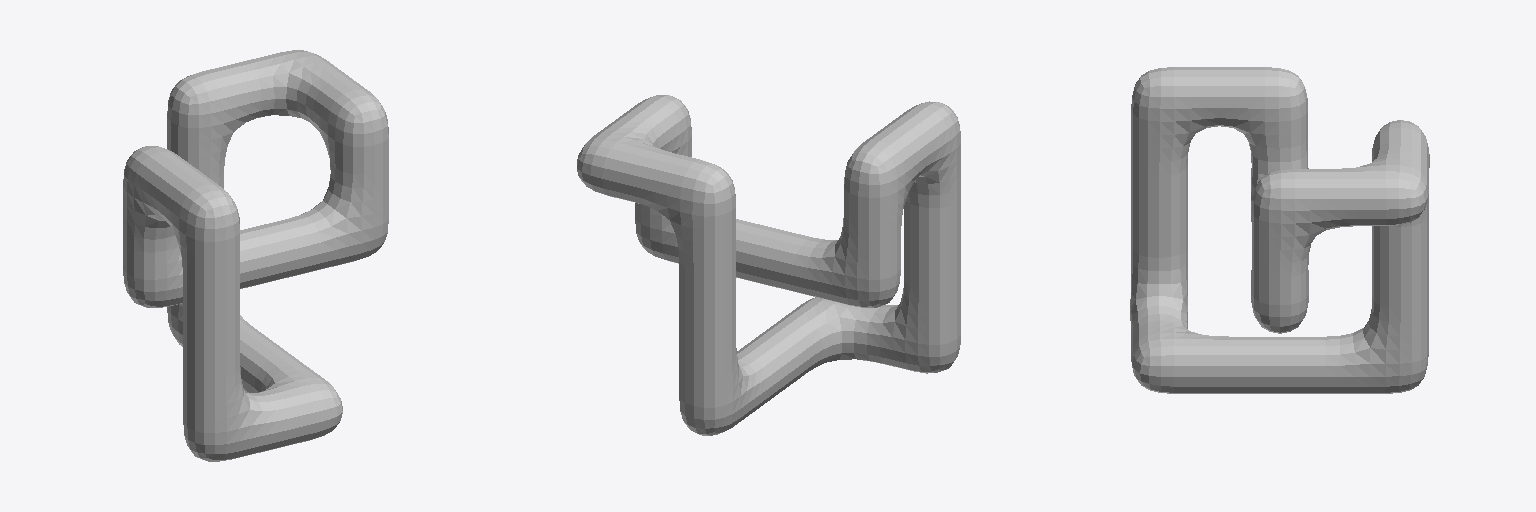
The model's file is milk.obj.
3 views of the same model, side by side, from view 1: azimuth 30°, elevation 25°; view 2: azimuth 150°, elevation 25°; view 3: azimuth 270°, elevation 25° (orthographic).
Bounding box in the file's own units: 9.92 × 9.92 × 9.92.